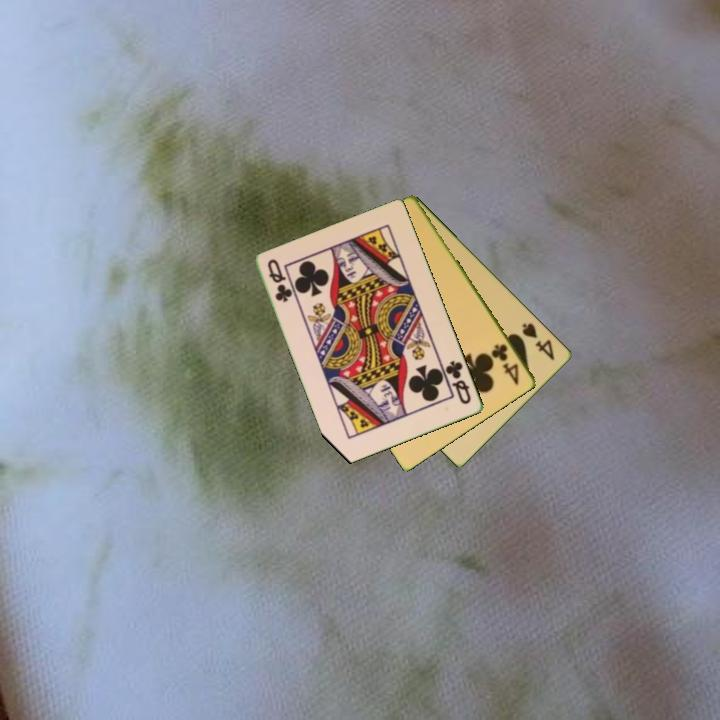4c: (488, 340, 522, 388)
4s: (519, 319, 558, 363)
Qc: (442, 357, 474, 408), (264, 255, 295, 306)
